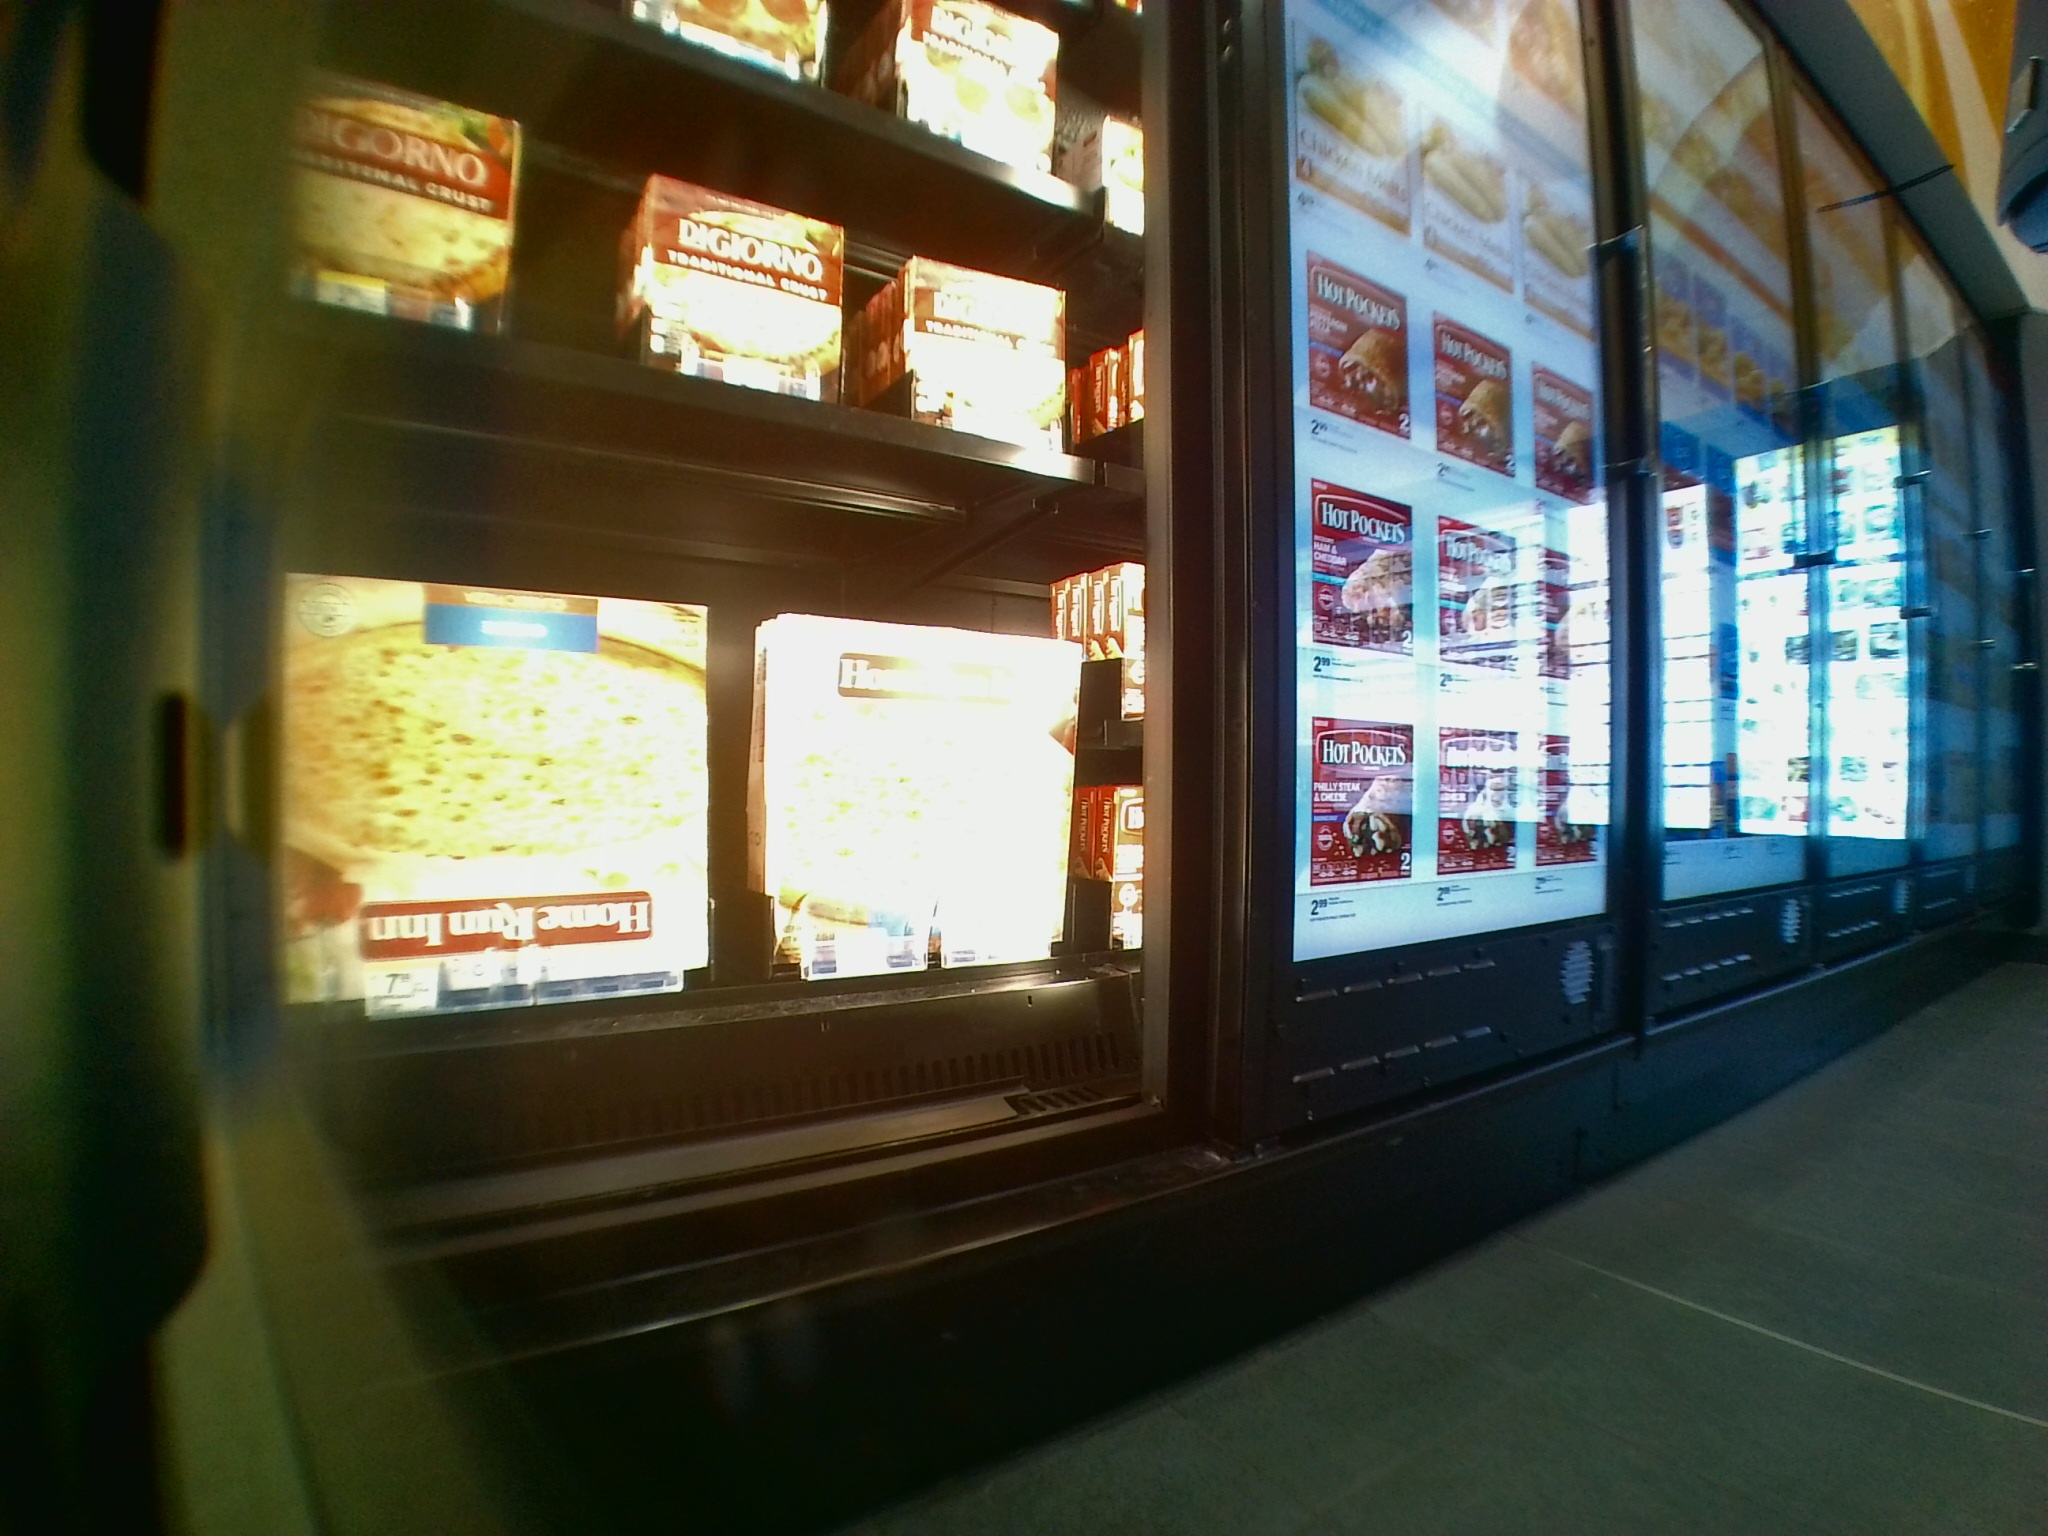shelf: (289, 513, 1135, 1096), (282, 139, 1121, 481)
